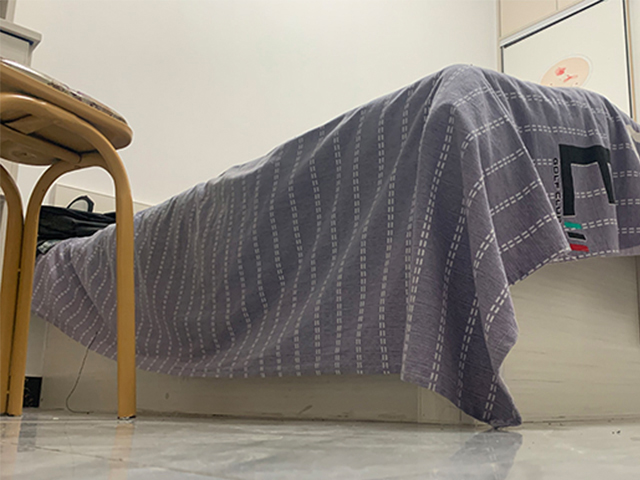bed: (33, 63, 640, 431)
stool: (1, 55, 139, 422)
